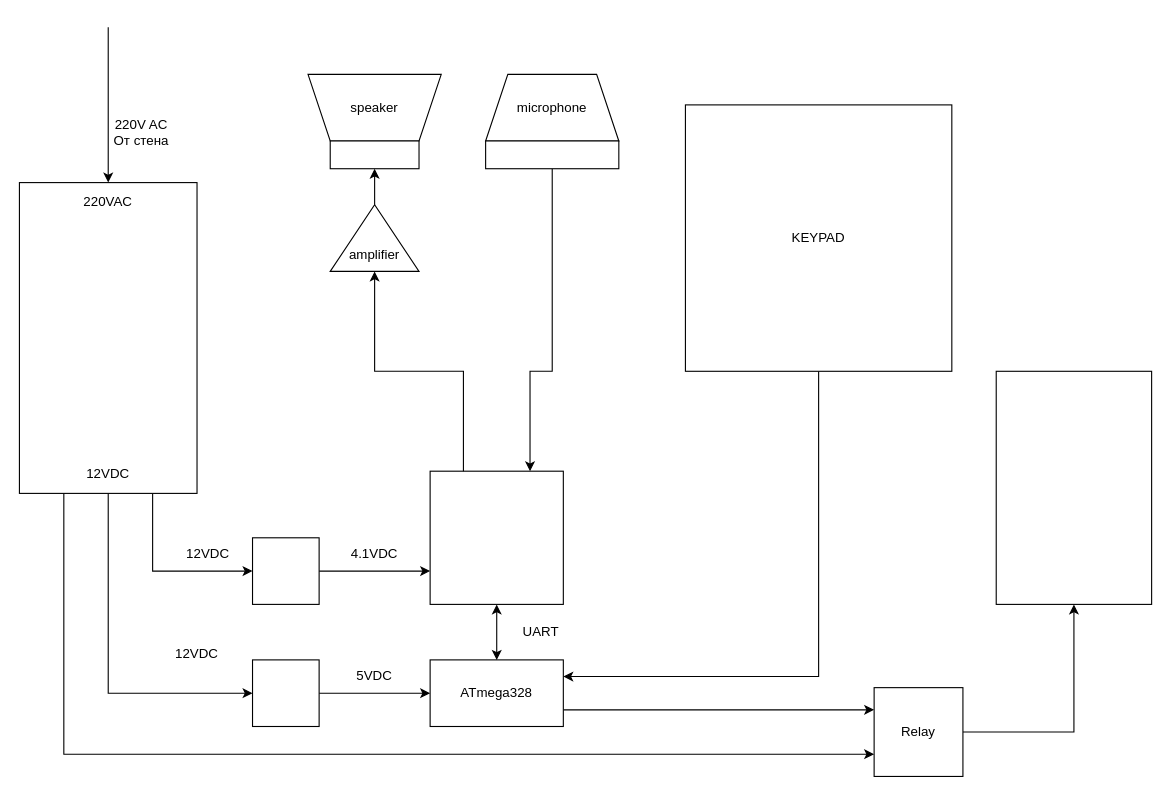
Some shapes in this 1171 by 796 pixel diagram are drawn without their labels. The centre of each missing label's shape, as x and y in pixels:
"Buck DC- DC" belongs at [285,692].
"Buck DC-DC" belongs at [285,570].
"Door" belongs at [1073,487].
"SIM800L module" belongs at [496,537].
